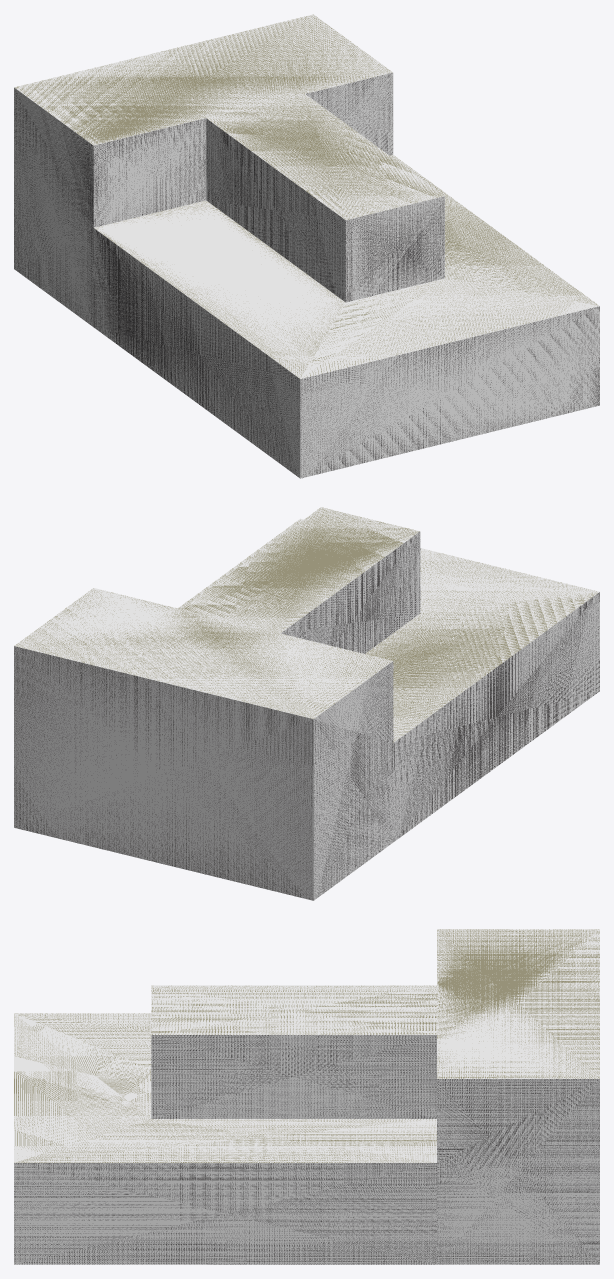
The model's file is roca.dae.
3 views of the same model, one above another, from view 1: azimuth 30°, elevation 25°; view 2: azimuth 150°, elevation 25°; view 3: azimuth 270°, elevation 25° (orthographic). The views are drawn at different scales.
Parts seen in each view (by area): view 1: SketchUp (×3); view 2: SketchUp (×3); view 3: SketchUp (×3).
Boxes of the visible parts, <box> form: SketchUp (×3): <box>14,14,599,478</box>; SketchUp (×3): <box>14,507,599,900</box>; SketchUp (×3): <box>14,929,599,1264</box>.
Size of the model in its own units: 57.09 by 94.49 by 33.07.
